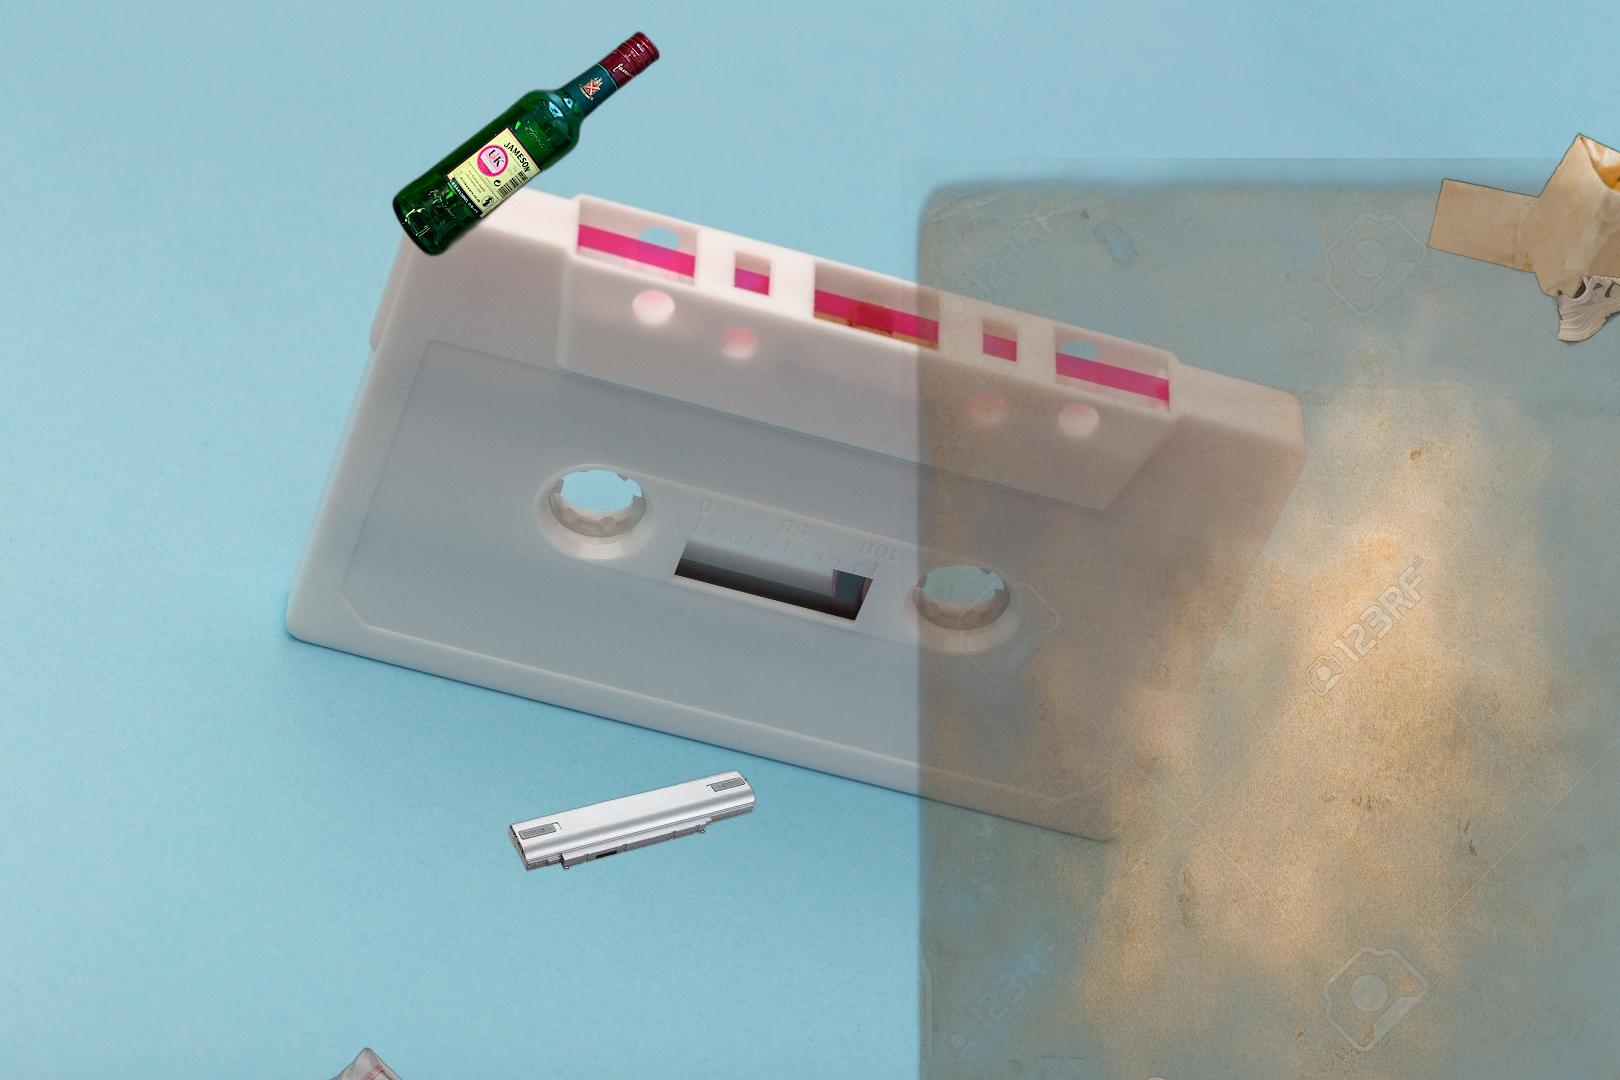battery: (492, 722, 767, 874)
glass: (389, 27, 663, 262)
paper-bag: (1424, 131, 1620, 312)
plastic-bag: (325, 1045, 440, 1080)
shoes: (1550, 250, 1620, 350)
trash: (1140, 1074, 1323, 1080)
trashbox-cardboard: (900, 158, 1620, 1080)
